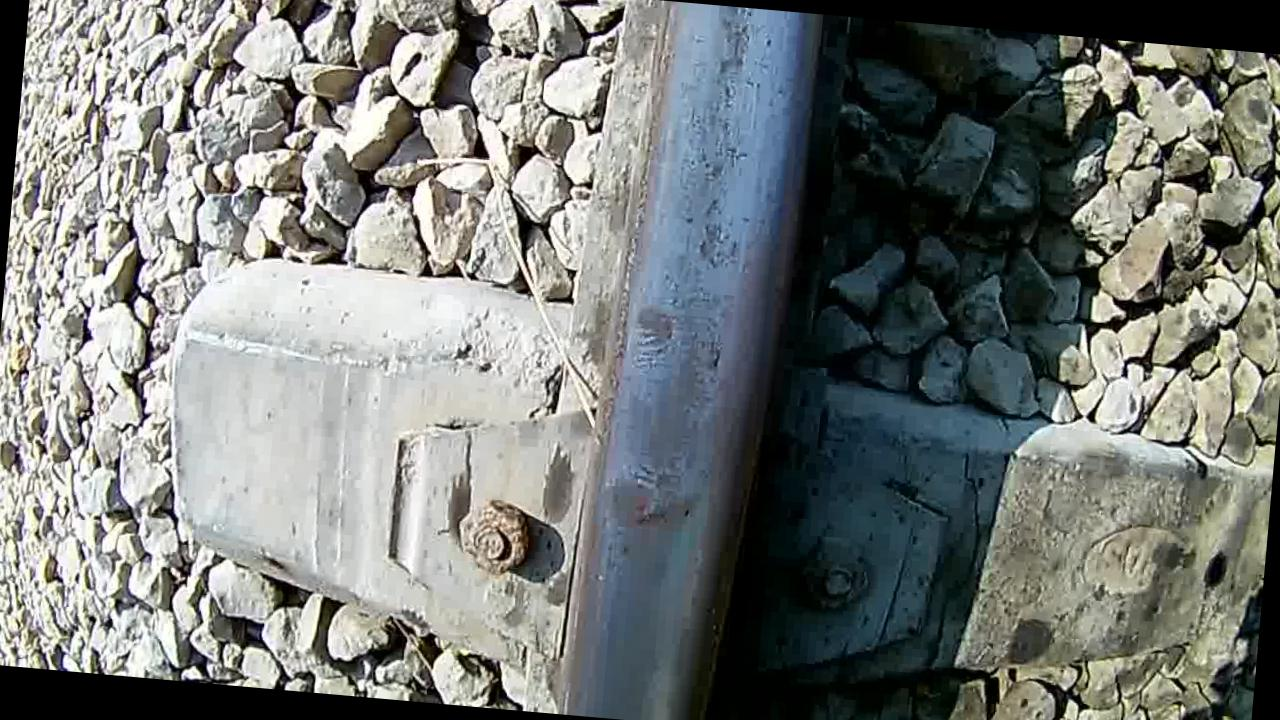crack: (556, 0, 814, 720)
